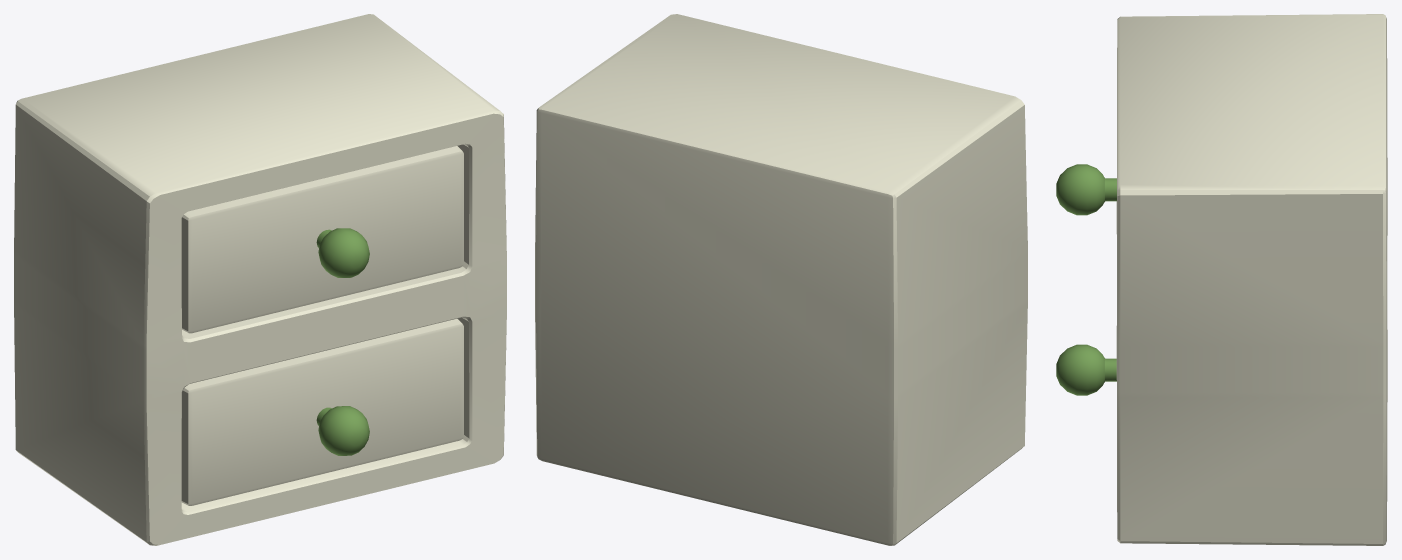
File: organizer.glb
3 renders of one model, left to right at view 1: azimuth 30°, elevation 25°; view 2: azimuth 150°, elevation 25°; view 3: azimuth 270°, elevation 25°, orthographic.
Parts seen in each view (by area): view 1: Organizer; view 2: Organizer; view 3: Organizer.
Boxes of the visible parts, left/top/right/bottom form: Organizer: left=14, top=14, right=506, bottom=545; Organizer: left=535, top=14, right=1027, bottom=545; Organizer: left=1056, top=14, right=1387, bottom=545.
Bounding box in the file's own units: 0.8606 × 0.8017 × 0.6698.
1 material, 1 textured.
